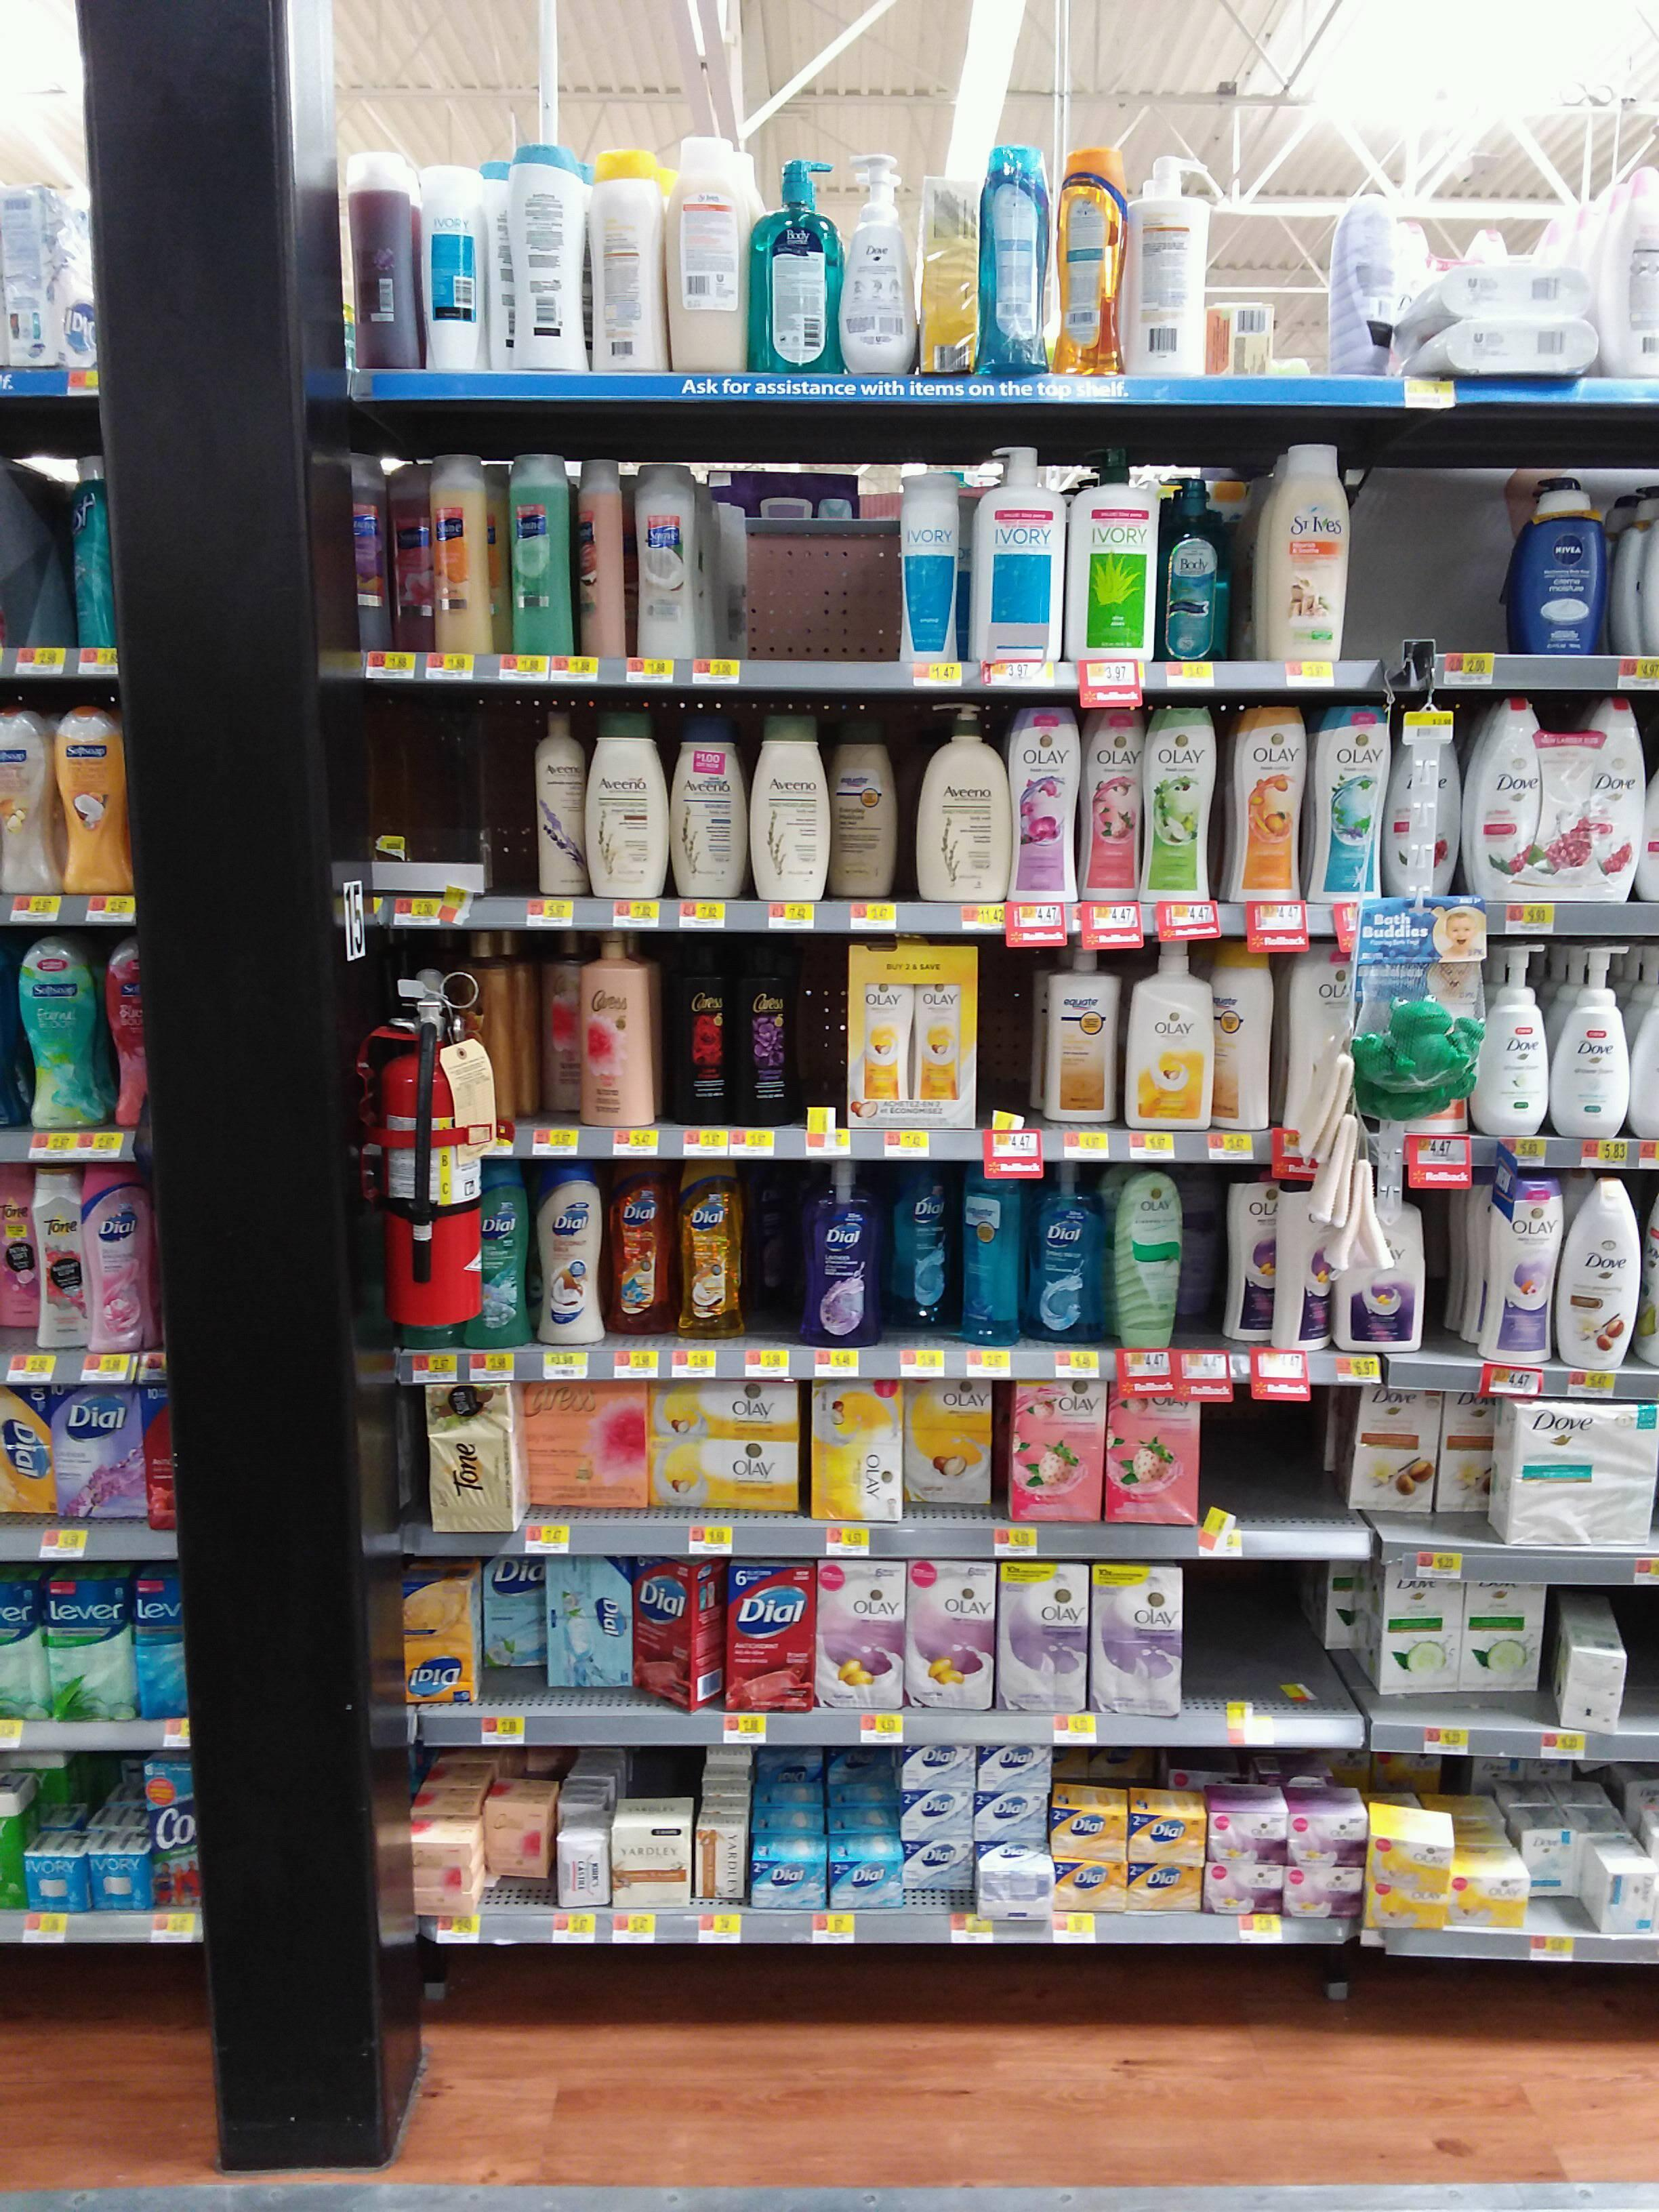empty: (355, 716, 528, 892), (723, 489, 894, 665), (1366, 491, 1499, 653), (1206, 1390, 1342, 1524), (1194, 1568, 1330, 1702), (732, 1183, 802, 1341), (784, 970, 843, 1118)
